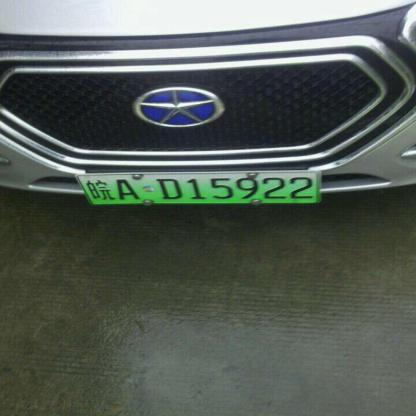lp: (77, 172, 317, 204)
